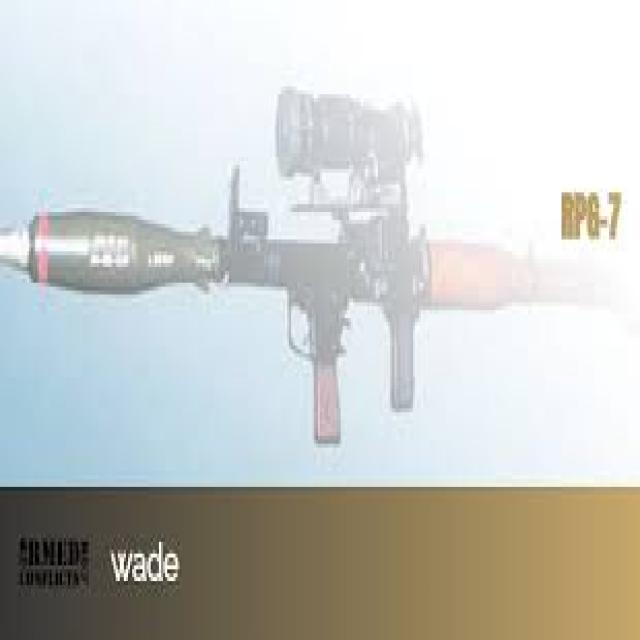Gun: (0, 81, 640, 436)
